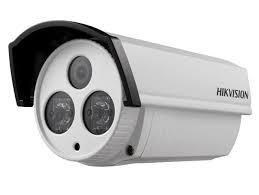tutu: (8, 19, 251, 167)
